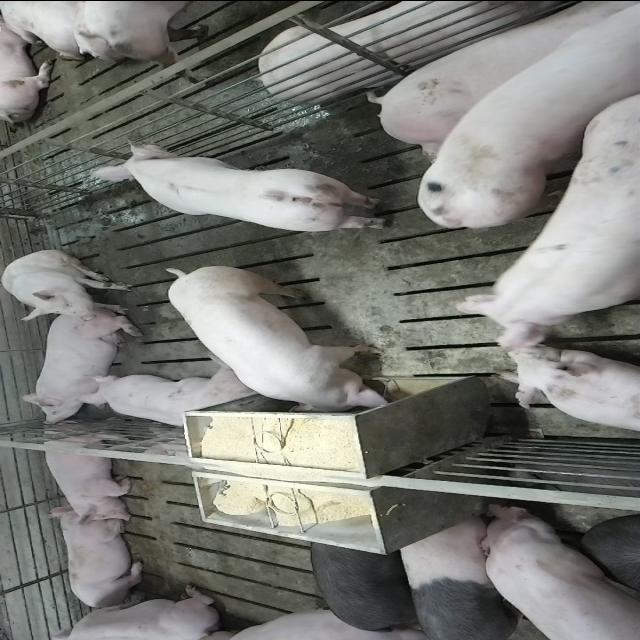Feeding: (164, 269, 396, 422)
Lateral_lying: (256, 0, 581, 102)
Sitting: (2, 249, 138, 320)
Standing: (375, 4, 640, 237), (448, 100, 638, 362), (88, 138, 398, 234), (474, 501, 640, 638), (398, 512, 556, 638), (303, 536, 427, 636)
Sternal_lying: (13, 314, 136, 424), (494, 347, 640, 434), (78, 368, 256, 431), (36, 583, 225, 637), (36, 424, 138, 524), (53, 510, 148, 610)
